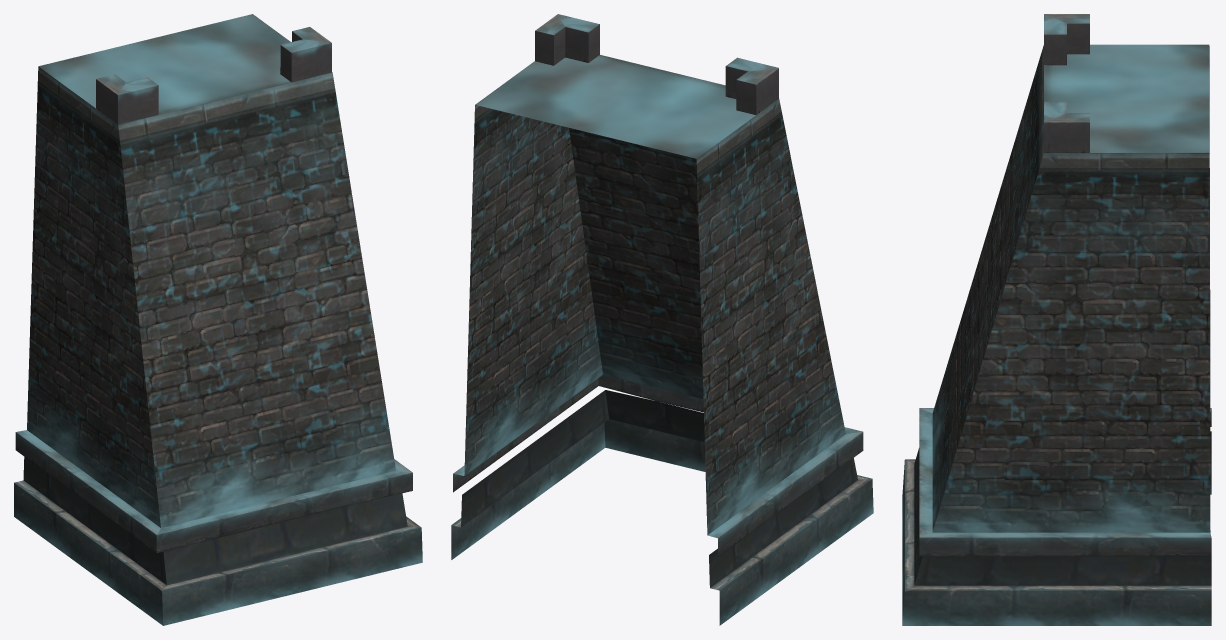
Rendered from chengqiang03.FBX.
3 renders of one model, left to right at view 1: azimuth 30°, elevation 25°; view 2: azimuth 150°, elevation 25°; view 3: azimuth 270°, elevation 25°, orthographic. The views are drawn at different scales.
Visible parts, largest first — view 1: s7_city_new_chengqiang03; view 2: s7_city_new_chengqiang03; view 3: s7_city_new_chengqiang03.
Part boxes in pixels (<box>): s7_city_new_chengqiang03: <box>14,14,422,625</box>; s7_city_new_chengqiang03: <box>451,14,873,625</box>; s7_city_new_chengqiang03: <box>902,14,1211,625</box>.
Bounding box in the file's own units: 6.49 × 11.35 × 6.46.
